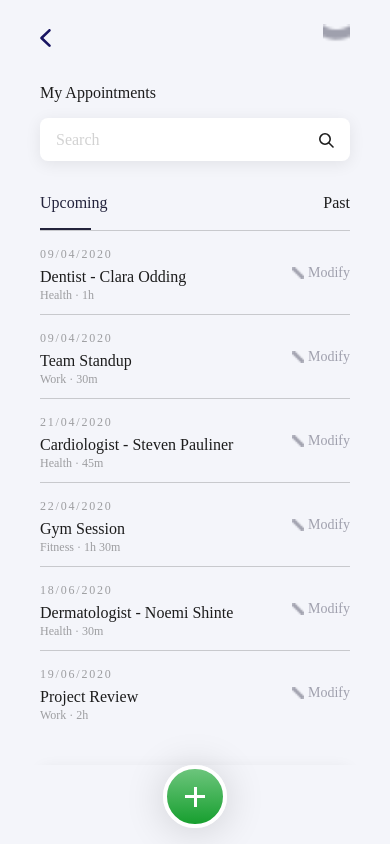
Test: Time Management list screen › filters the appointment list as the user types
Type "cardio" into the field with test id "time-search-input" at (187, 140), box [56,130,318,149]
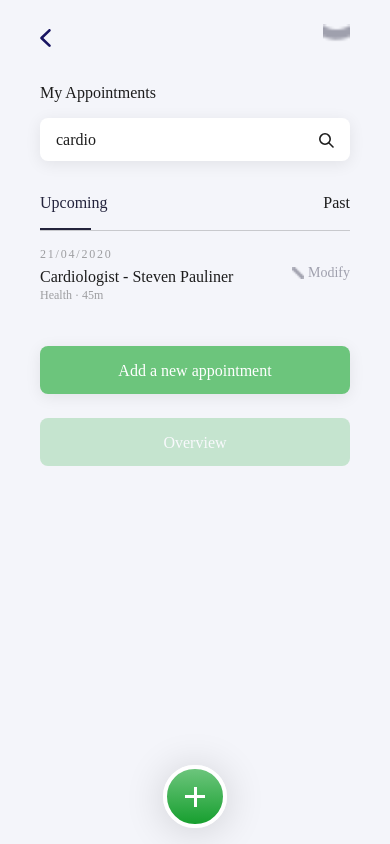
Expected: the text "Cardiologist - Steven Pauliner" is shown, [40,267,264,286]
Expected: the button "Dentist - Clara Odding" is gone
